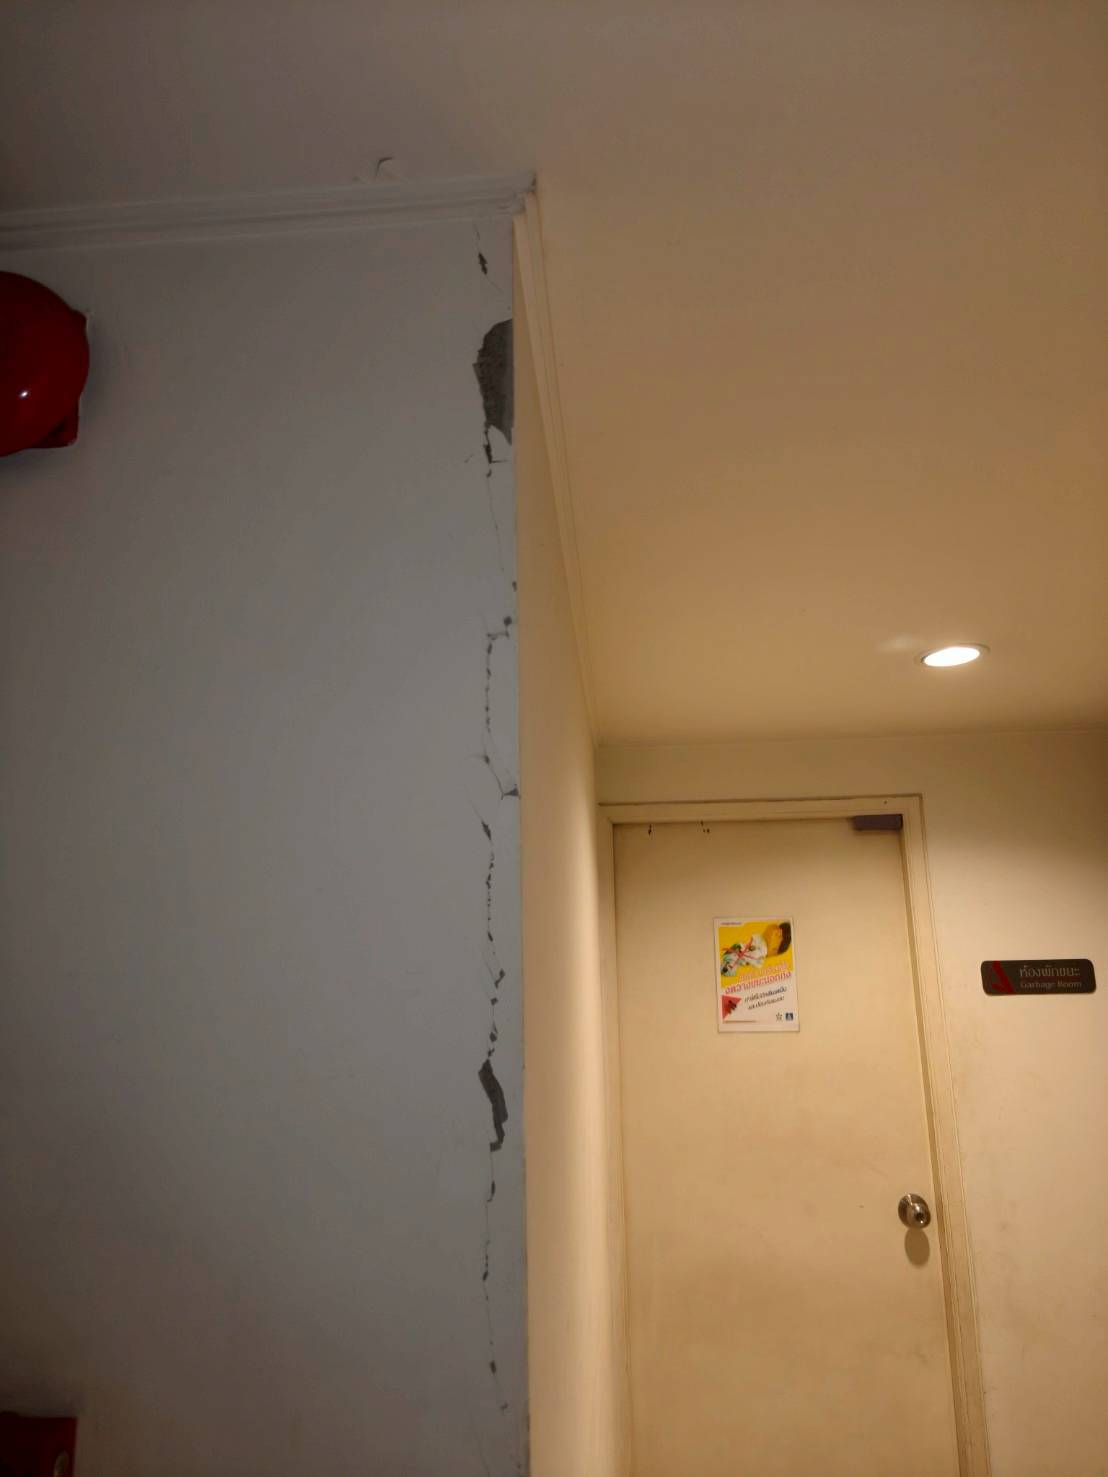Low: (374, 223, 563, 1477)
